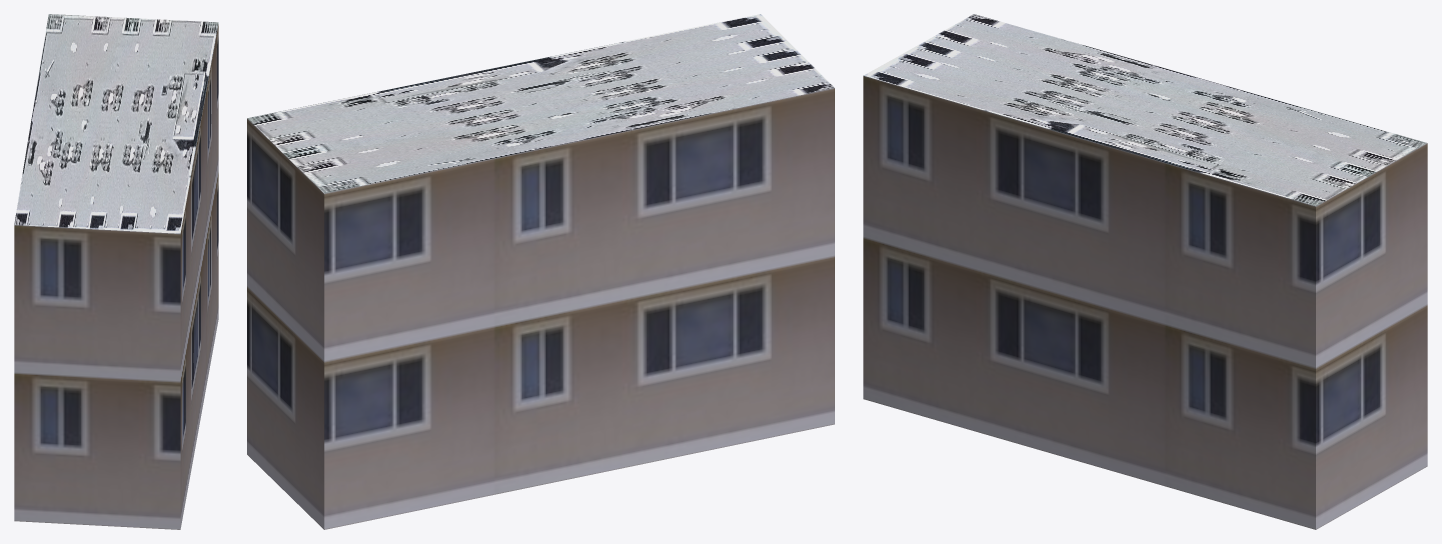
The model's file is ResTex__1855.fbx.
3 views of the same model, side by side, from view 1: azimuth 30°, elevation 25°; view 2: azimuth 150°, elevation 25°; view 3: azimuth 270°, elevation 25° (orthographic). The views are drawn at different scales.
Visible parts, largest first — view 1: CityEngineMaterial_21_m, CityEngineMaterial_4_m; view 2: CityEngineMaterial_21_m, CityEngineMaterial_4_m; view 3: CityEngineMaterial_21_m, CityEngineMaterial_4_m.
Boxes of the visible parts, x1=… form: CityEngineMaterial_21_m: x1=14, y1=24, x2=218, y2=529; CityEngineMaterial_4_m: x1=14, y1=14, x2=218, y2=233; CityEngineMaterial_21_m: x1=247, y1=88, x2=834, y2=529; CityEngineMaterial_4_m: x1=247, y1=14, x2=834, y2=193; CityEngineMaterial_21_m: x1=863, y1=75, x2=1427, y2=529; CityEngineMaterial_4_m: x1=864, y1=14, x2=1426, y2=206.
Size of the model in its own units: 7.66 by 6 by 9.48.
Materials: 2 (2 with a texture image).
